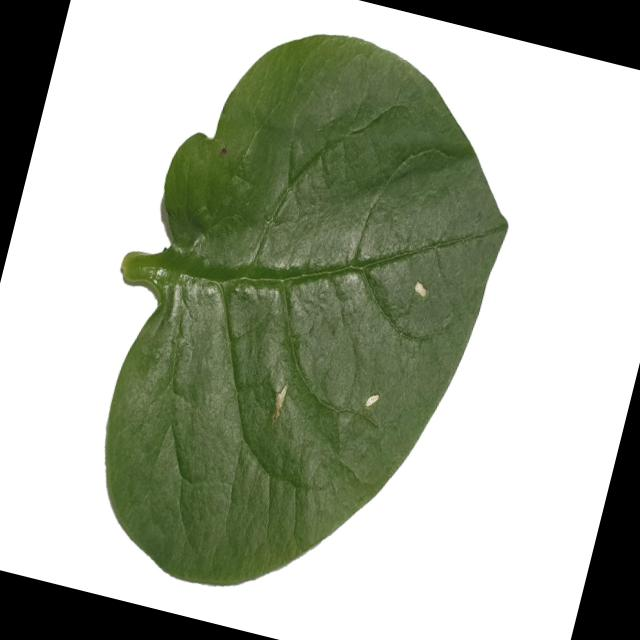Medicinal-Basale: (53, 0, 544, 635)
